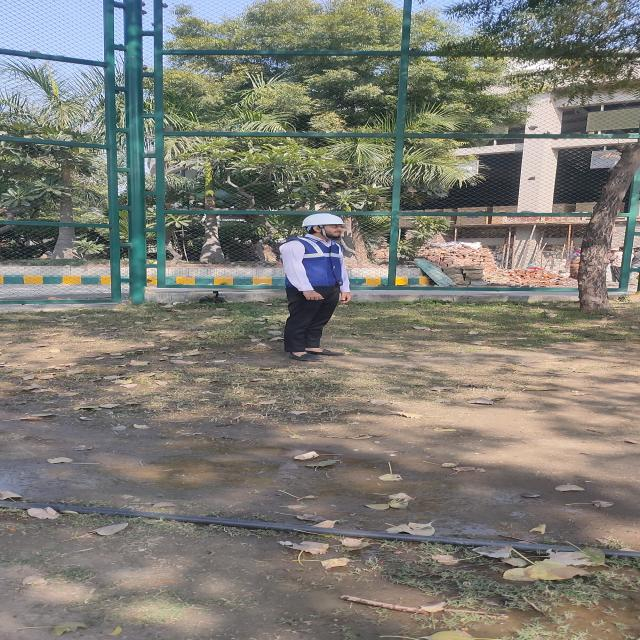safe: (279, 213, 352, 362)
